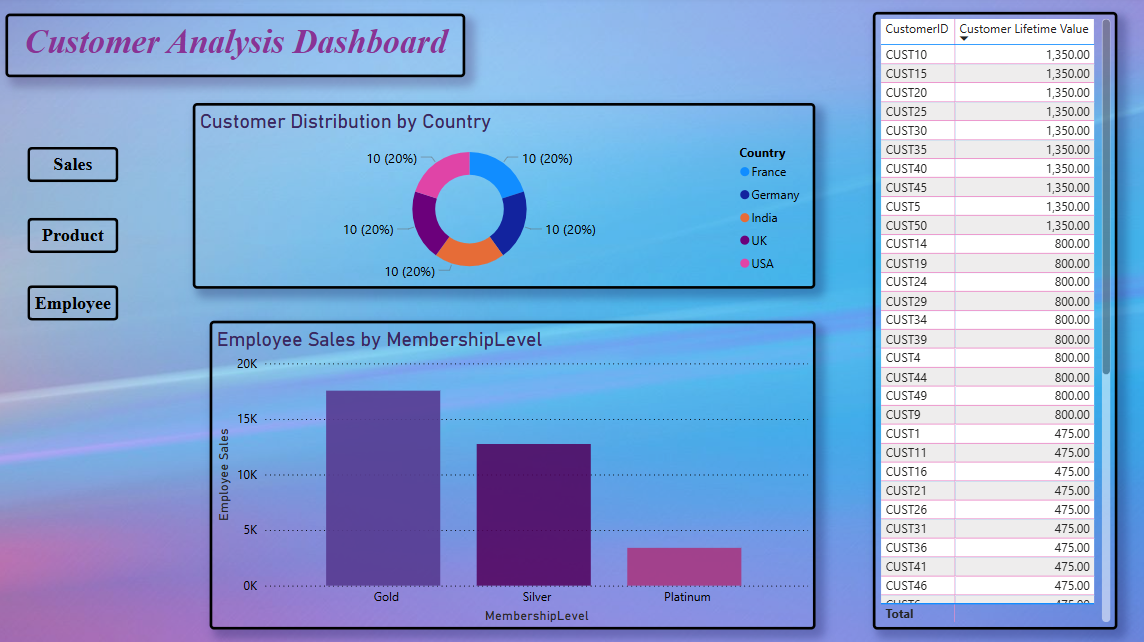

This screenshot's page, from the dashboard's own definition file:
{"tool":"powerbi","page":{"name":"Customer","canvas":[1280,720],"ordinal":1},"visuals":[{"type":"textbox","box":[9.5,21,509.3,70.6],"z":0},{"type":"donutChart","title":"Customer Distribution by Country","fields":{"Category":["Customers.Country"],"Y":["Customers.Customer Count"]},"box":[216.7,119.6,689.3,205.5],"z":1000},{"type":"tableEx","title":"Sales by Region","fields":{"Values":["Customers.CustomerID","Customers.Customer Lifetime Value"]},"box":[969.5,18.7,270.9,683.7],"z":2000},{"type":"clusteredColumnChart","fields":{"Category":["Customers.MembershipLevel"],"Y":["Employees.Employee Sales"]},"box":[235.4,360.5,670.6,341.8],"z":3000},{"type":"actionButton","box":[33.6,168.1,100.9,39.2],"z":4000},{"type":"actionButton","box":[33.6,246.6,100.9,39.2],"z":5000},{"type":"actionButton","box":[33.6,321.3,100.9,39.2],"z":6000}]}

Visuals, with their boxes in screenshot pixels (x1, y1, x2, y2), scaled from the page's 1280x720 canvas onto the 1144x642 screenshot:
textbox: [8,19,464,82]
"Customer Distribution by Country" donutChart: [194,107,810,290]
"Sales by Region" tableEx: [866,17,1109,626]
clusteredColumnChart - Customers.MembershipLevel x Employees.Employee Sales: [210,321,810,626]
actionButton: [30,150,120,185]
actionButton: [30,220,120,255]
actionButton: [30,286,120,321]
